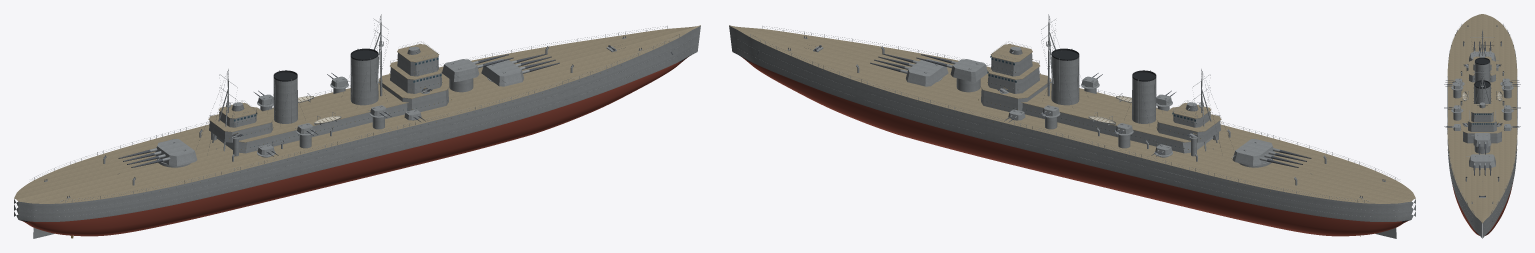
File: demo-prince-of-wales.glb
The picture shows the model from 3 angles, left to right: view 1: azimuth 30°, elevation 25°; view 2: azimuth 150°, elevation 25°; view 3: azimuth 270°, elevation 25°; orthographic projection. The views are drawn at different scales.
Visible parts, largest first — view 1: HMS Prince of Wales — King George V class; view 2: HMS Prince of Wales — King George V class; view 3: HMS Prince of Wales — King George V class.
Part boxes in pixels (x1,y1,x2,y2): HMS Prince of Wales — King George V class: [14, 14, 700, 238]; HMS Prince of Wales — King George V class: [729, 14, 1415, 238]; HMS Prince of Wales — King George V class: [1444, 14, 1520, 238].
Bounding box in the file's own units: 227 × 45.03 × 34.48.
Materials: 8 (2 with a texture image).
